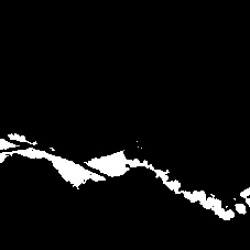crack: (86, 148, 235, 219), (2, 148, 105, 187), (9, 134, 38, 144), (2, 138, 16, 149), (235, 203, 246, 214), (241, 189, 248, 204)
